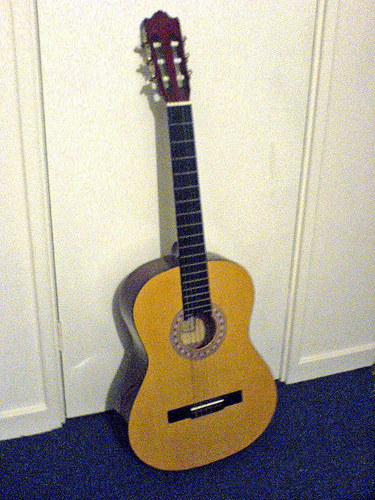guitar: (110, 10, 278, 468)
